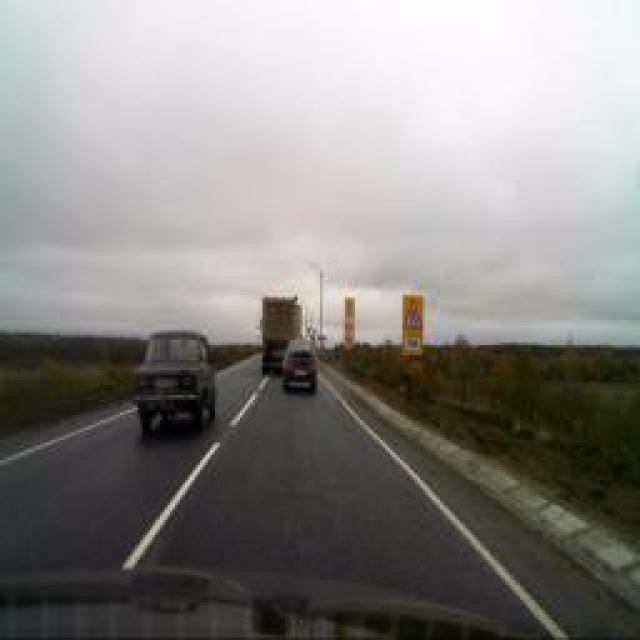sign: (344, 324, 354, 341)
